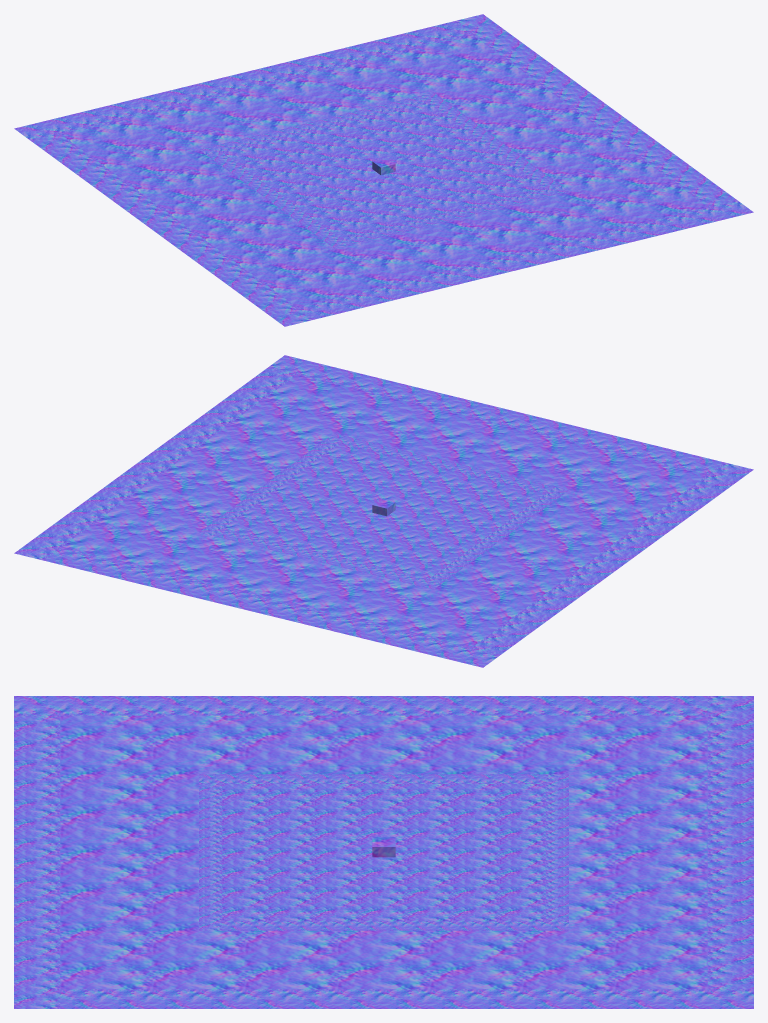
The model's file is water.fbx.
3 views of the same model, one above another, from view 1: azimuth 30°, elevation 25°; view 2: azimuth 150°, elevation 25°; view 3: azimuth 270°, elevation 25° (orthographic). The views are drawn at different scales.
Parts seen in each view (by area): view 1: waterBorder, waterCenter; view 2: waterBorder, waterCenter; view 3: waterBorder, waterCenter.
Part boxes in pixels (x1=…): waterBorder: x1=14, y1=14, x2=753, y2=326; waterCenter: x1=199, y1=92, x2=568, y2=248; waterBorder: x1=14, y1=355, x2=753, y2=667; waterCenter: x1=199, y1=433, x2=568, y2=589; waterBorder: x1=14, y1=696, x2=753, y2=1008; waterCenter: x1=199, y1=774, x2=568, y2=930.
Bounding box in the file's own units: 32 × 1 × 32.
Materials: 1 (1 with a texture image).
